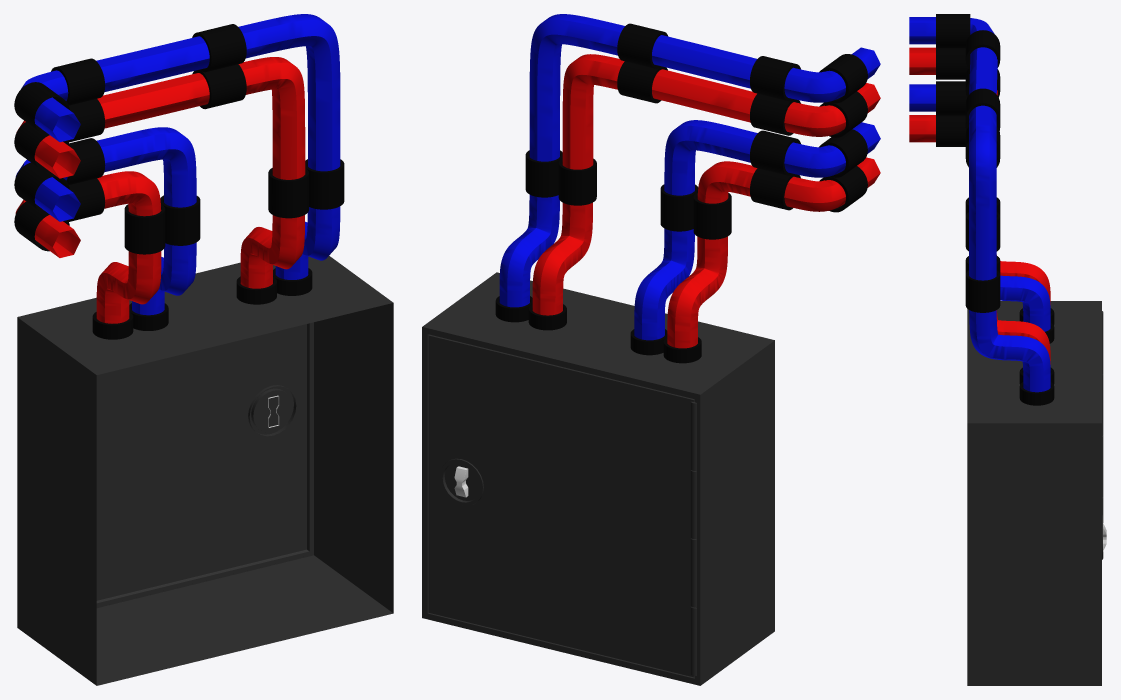
The model's file is fusebox DUMMY.fbx.
The picture shows the model from 3 angles, left to right: view 1: azimuth 30°, elevation 25°; view 2: azimuth 150°, elevation 25°; view 3: azimuth 270°, elevation 25°; orthographic projection. The views are drawn at different scales.
Parts seen in each view (by area): view 1: fusebox DUMMY; view 2: fusebox DUMMY; view 3: fusebox DUMMY.
Boxes of the visible parts, x1,y1,x2,y2 form: fusebox DUMMY: (14,14,393,685); fusebox DUMMY: (422,14,880,685); fusebox DUMMY: (909,14,1106,685).
Bounding box in the file's own units: 107 × 167 × 57.4.
